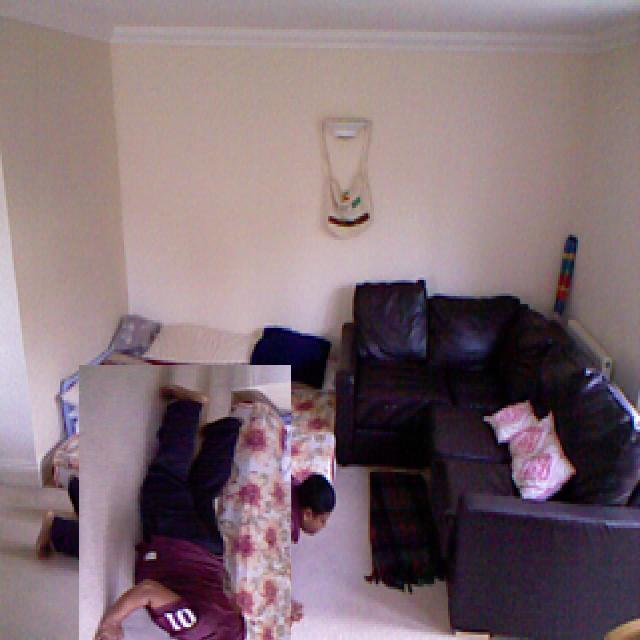Fall: (75, 391, 258, 640)
